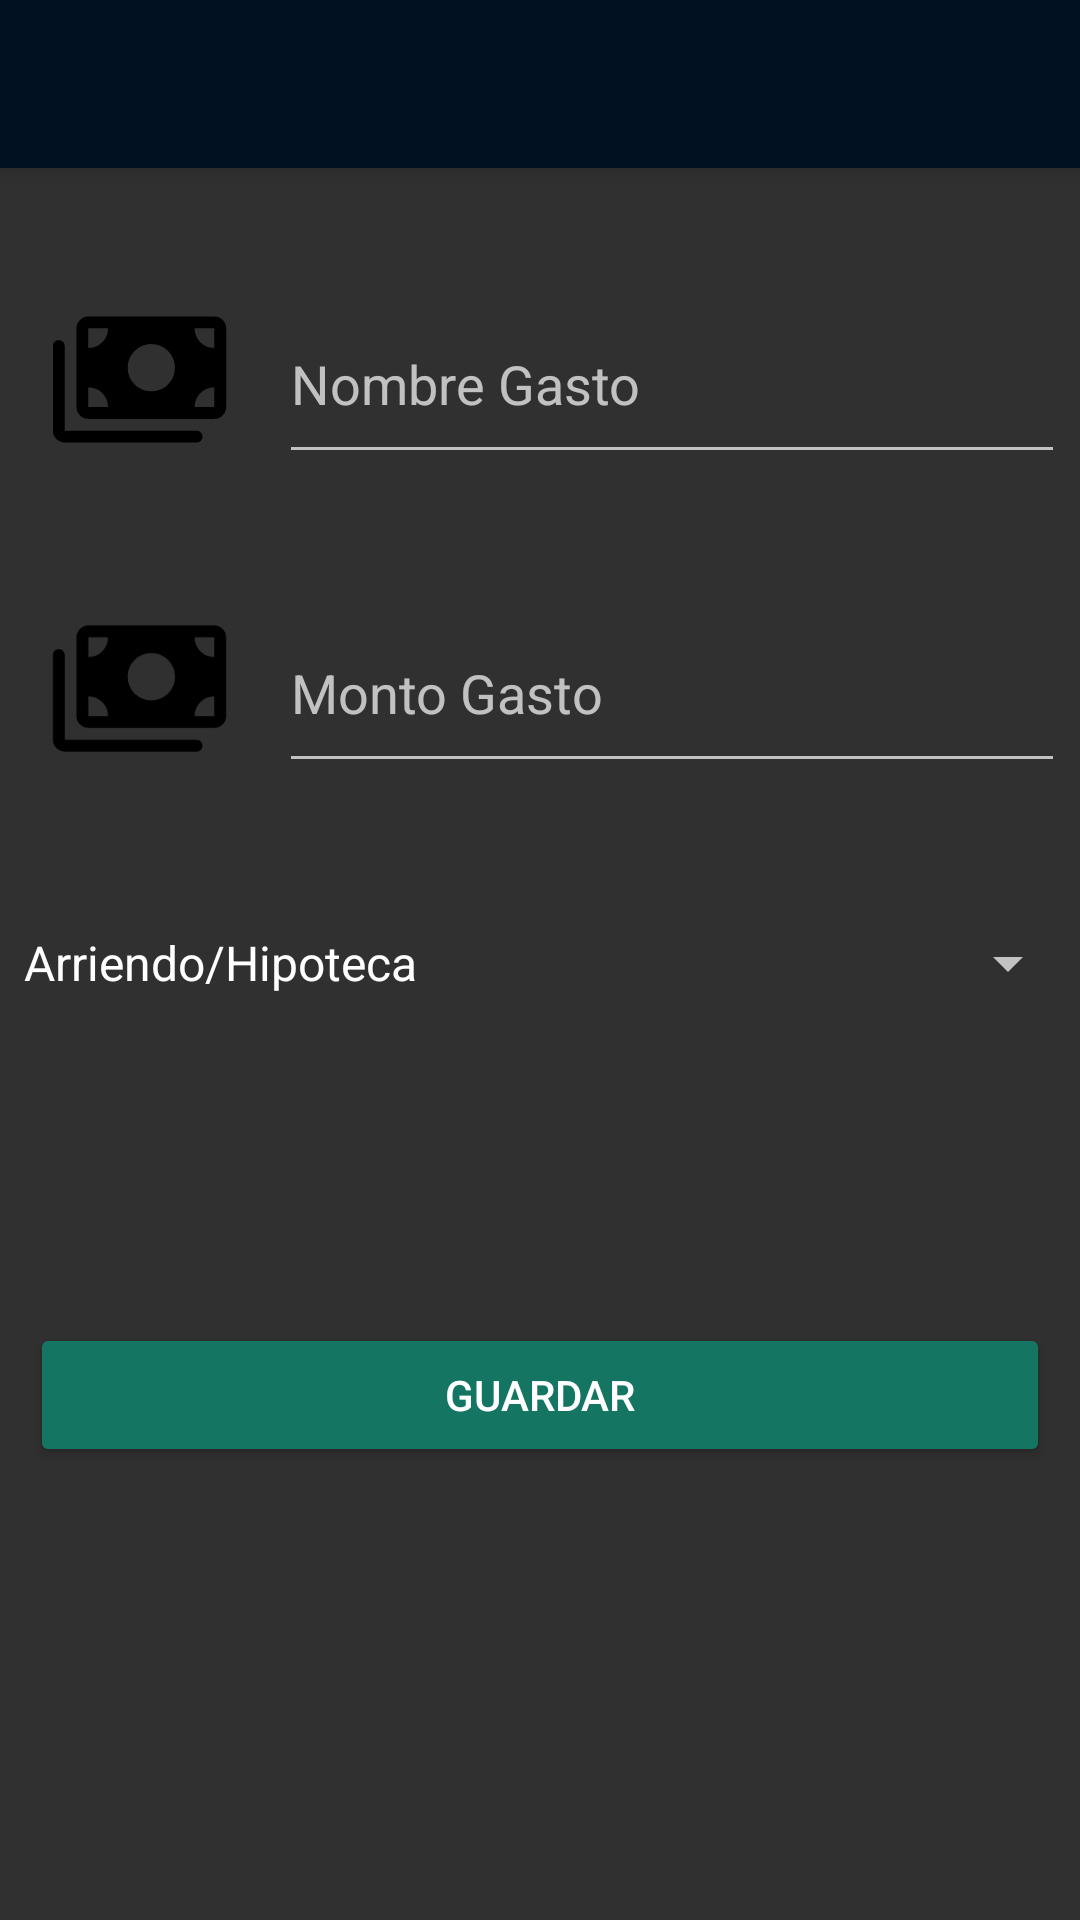

Named icons in this screenshot (1080*1920) and their bounding boxes, [x1=x1, y1=y1, x2=x2, y2=y2]:
payments: [x1=53, y1=317, x2=226, y2=442], [x1=53, y1=625, x2=226, y2=752]
